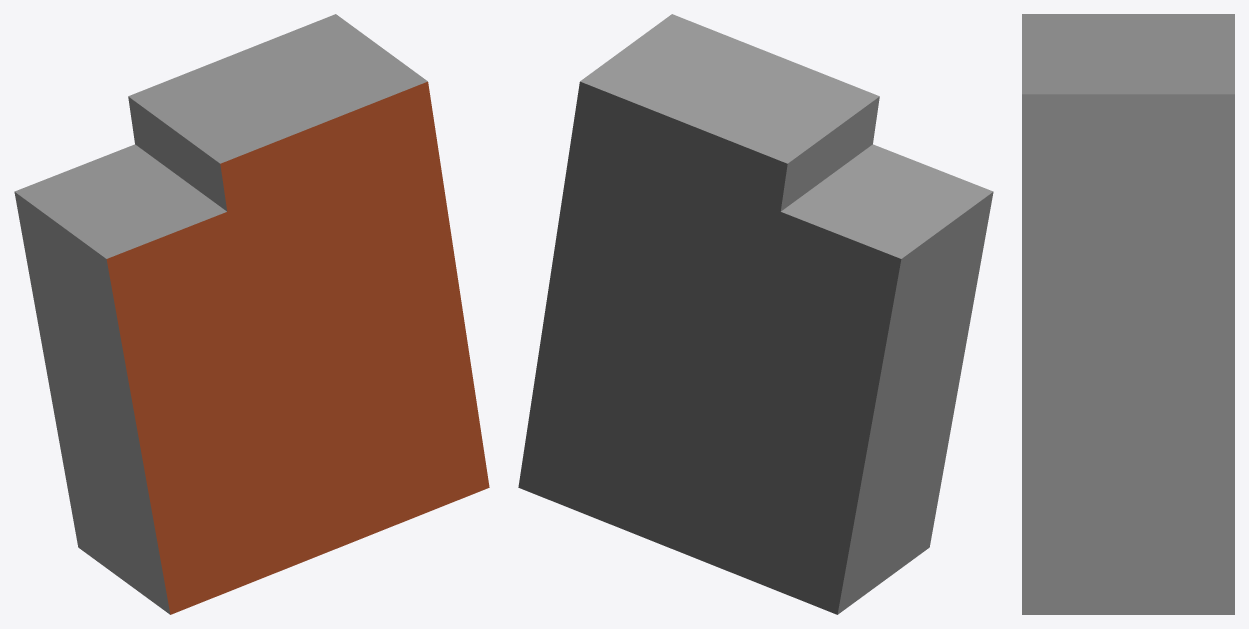
Rendered from construction_3400_assumed_A_Casa_h6m.obj.
3 views of the same model, side by side, from view 1: azimuth 30°, elevation 25°; view 2: azimuth 150°, elevation 25°; view 3: azimuth 270°, elevation 25° (orthographic). The views are drawn at different scales.
Parts seen in each view (by area): view 1: construction_3400_assumed_A_Casa; view 2: construction_3400_assumed_A_Casa; view 3: construction_3400_assumed_A_Casa.
Boxes of the visible parts, x1,y1,x2,y2 form: construction_3400_assumed_A_Casa: [14, 14, 489, 614]; construction_3400_assumed_A_Casa: [518, 14, 993, 614]; construction_3400_assumed_A_Casa: [1022, 14, 1234, 614].
Size of the model in its own units: 14.39 by 16.9 by 6.
